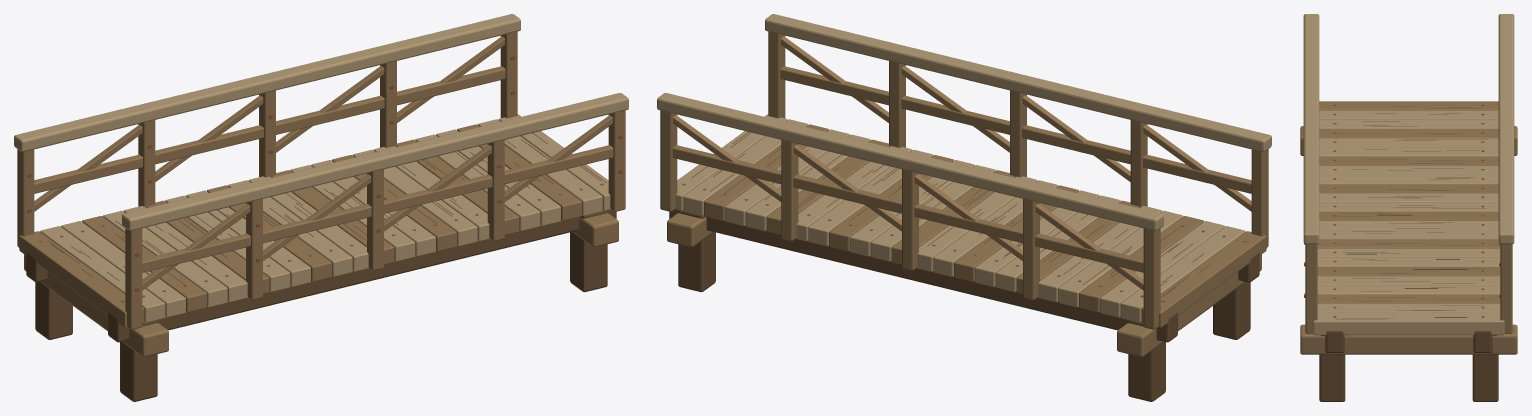
The model's file is Wooden_Bridge_Barren.glb.
3 views of the same model, side by side, from view 1: azimuth 30°, elevation 25°; view 2: azimuth 150°, elevation 25°; view 3: azimuth 270°, elevation 25° (orthographic). The views are drawn at different scales.
Visible parts, largest first — view 1: Structure; view 2: Structure; view 3: Structure.
Part boxes in pixels (x1,y1,x2,y2): Structure: [14, 14, 628, 401]; Structure: [657, 14, 1271, 401]; Structure: [1300, 14, 1517, 401].
Bounding box in the file's own units: 6 × 2.21 × 2.5.
